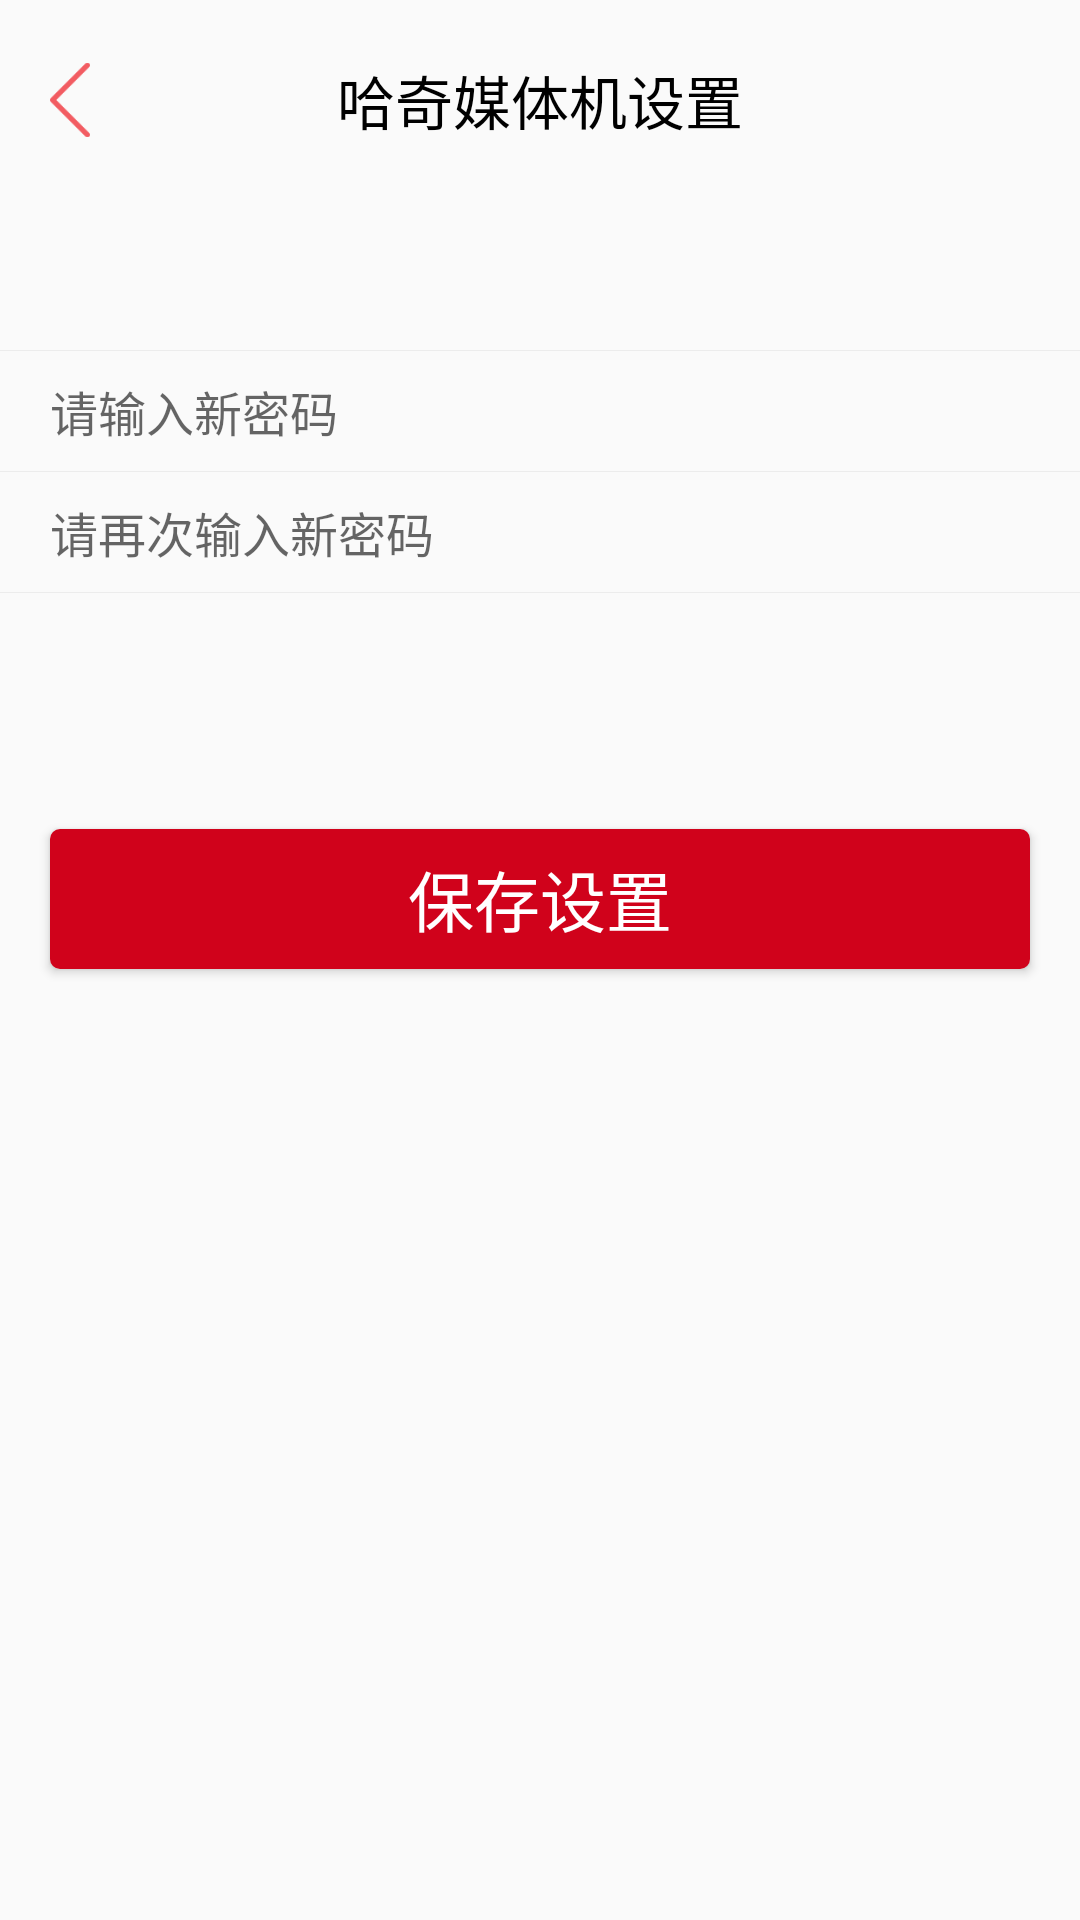

Named icons in this screenshot (1080 x 1920) and their centers, (x,y):
back: (70,100)
